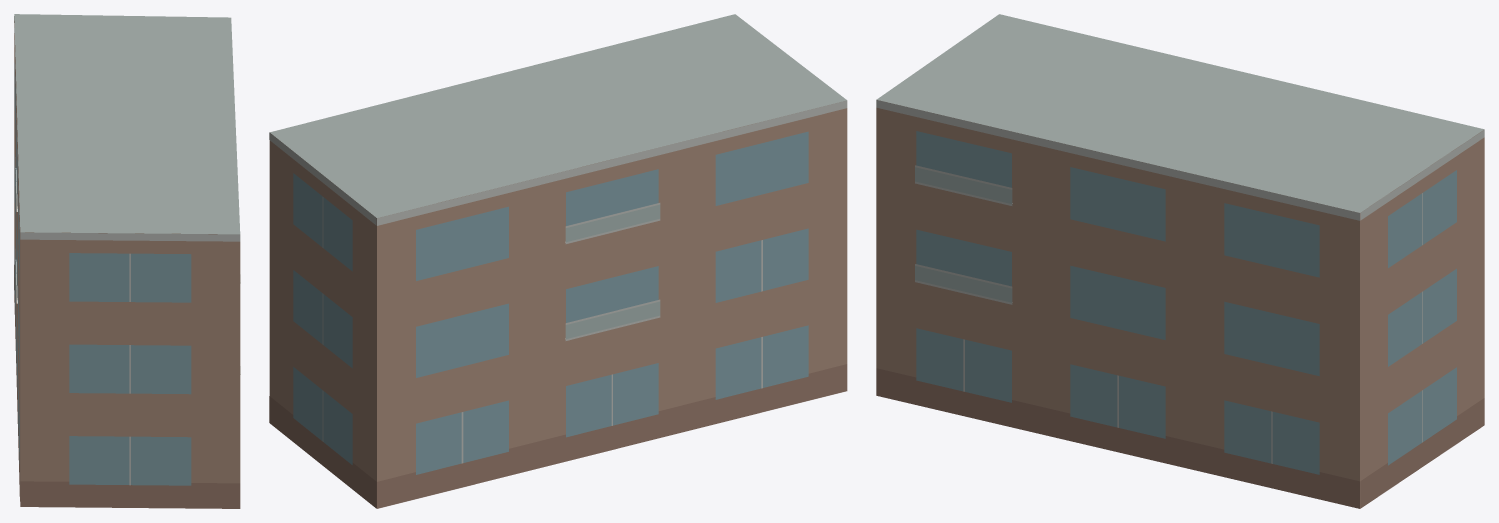
Rendered from survey-upis-32721500.glb.
3 renders of one model, left to right at view 1: azimuth 30°, elevation 25°; view 2: azimuth 150°, elevation 25°; view 3: azimuth 270°, elevation 25°, orthographic. The views are drawn at different scales.
Visible parts, largest first — view 1: survey-upis-32721500.tmp; view 2: survey-upis-32721500.tmp; view 3: survey-upis-32721500.tmp.
Boxes of the visible parts, box(x1,y1,x2,y2) form: survey-upis-32721500.tmp: box(14, 14, 240, 508); survey-upis-32721500.tmp: box(269, 14, 847, 508); survey-upis-32721500.tmp: box(876, 14, 1484, 508).
Bounding box in the file's own units: 13.21 × 9.15 × 17.06.
